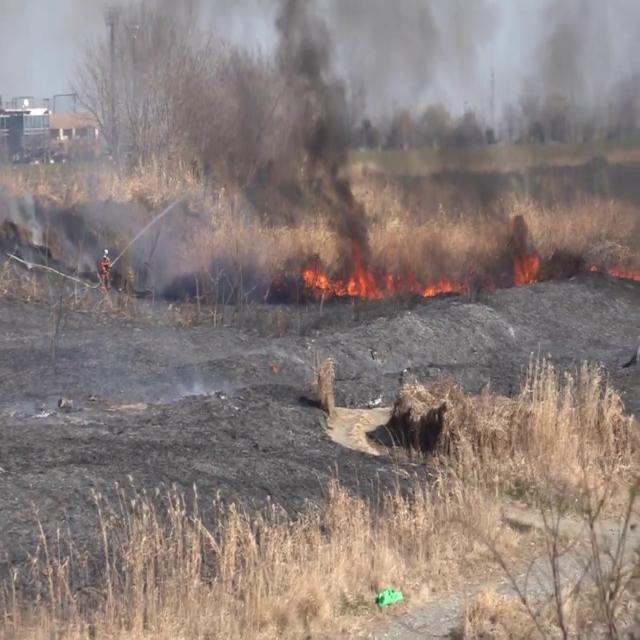Fire: (301, 260, 395, 306), (512, 248, 544, 288), (420, 270, 458, 300)
Smoke: (63, 0, 639, 271)
